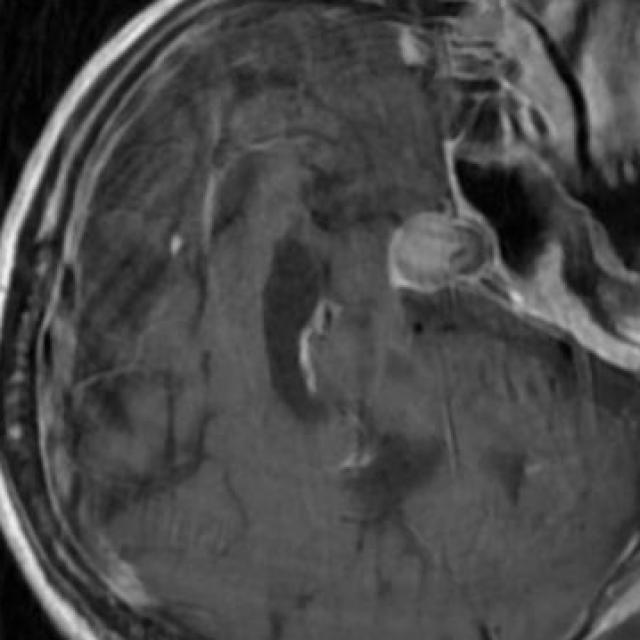pituitary: (387, 212, 501, 294)
